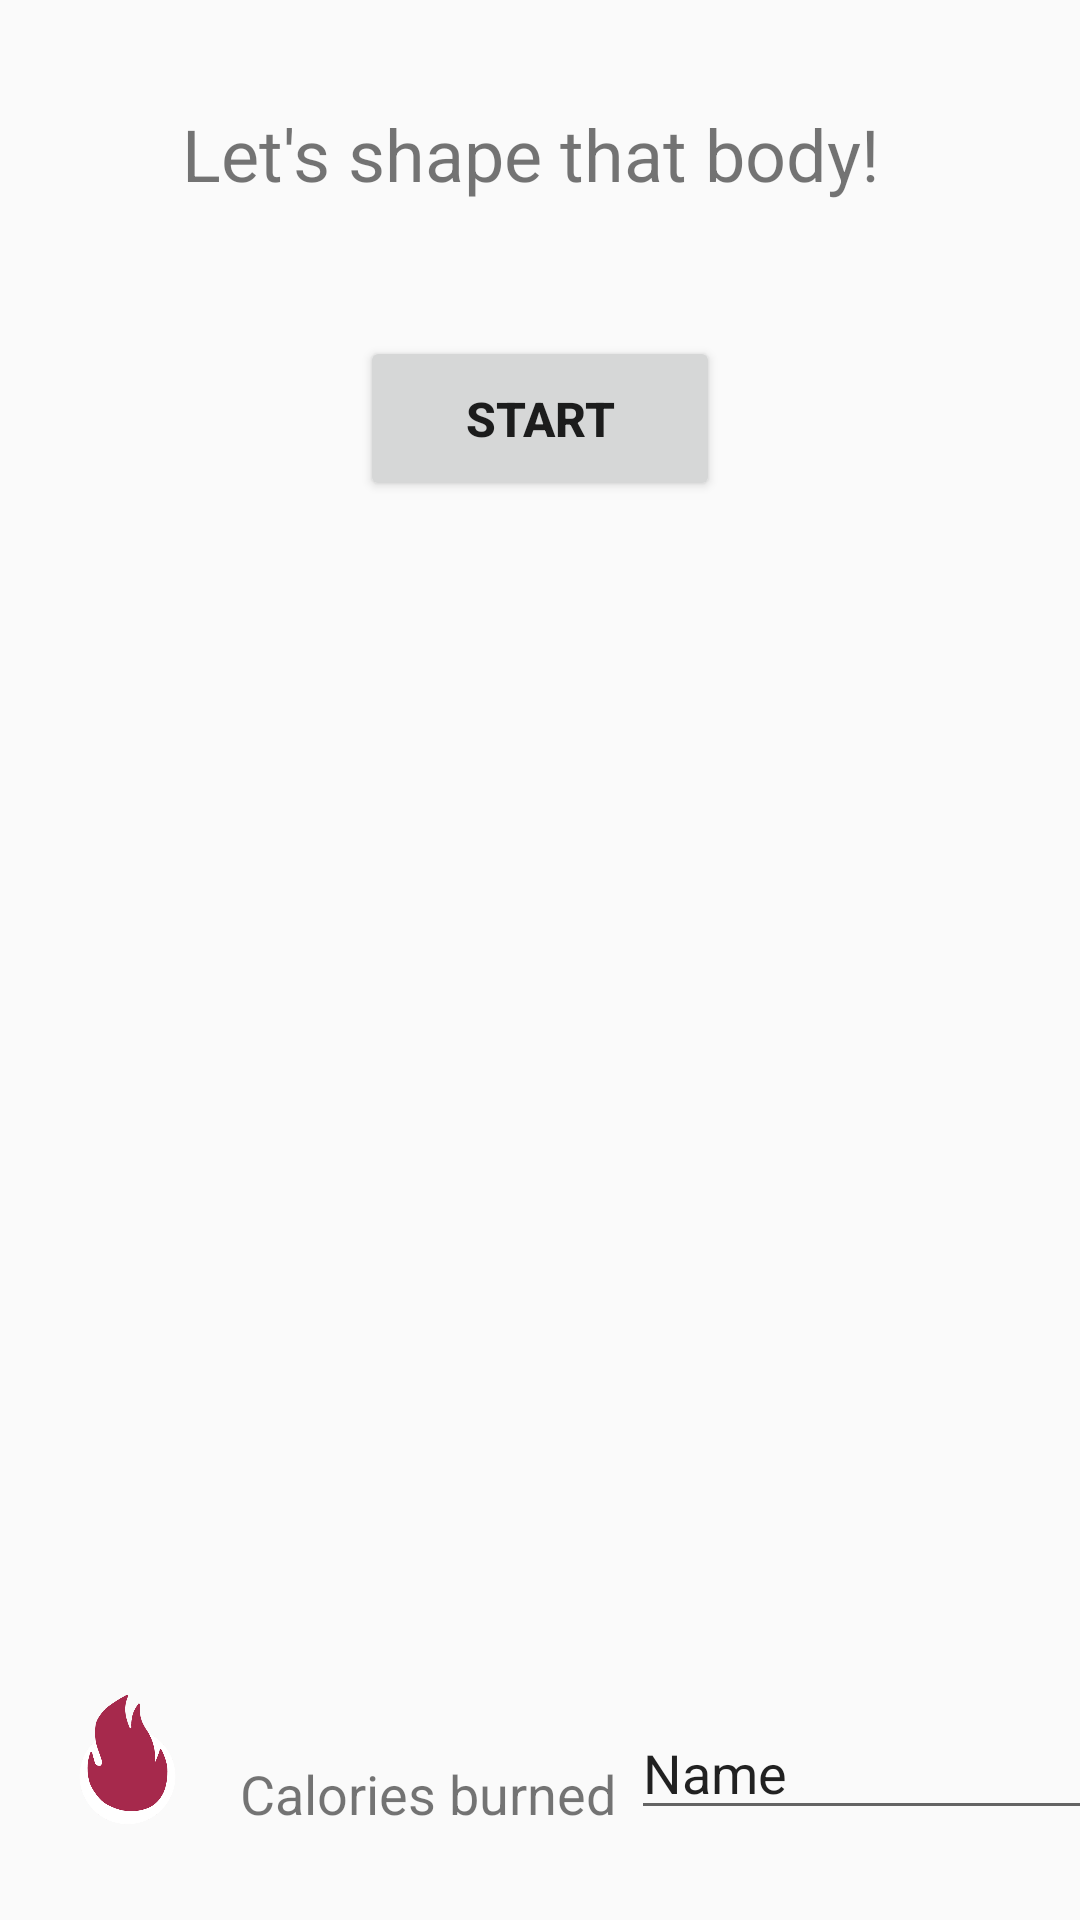

Where to tap for icons on this 1080x1920 app screen, as (x,y):
fire: (127,1753)
